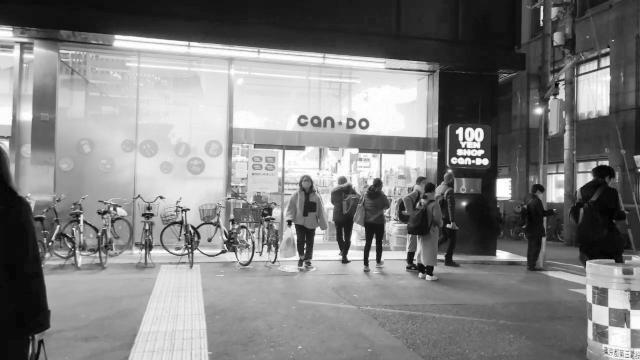berdiri: (574, 162, 630, 284), (404, 178, 444, 284), (515, 174, 557, 270)
berjalan: (286, 170, 324, 276), (357, 176, 389, 274), (332, 173, 356, 265)
